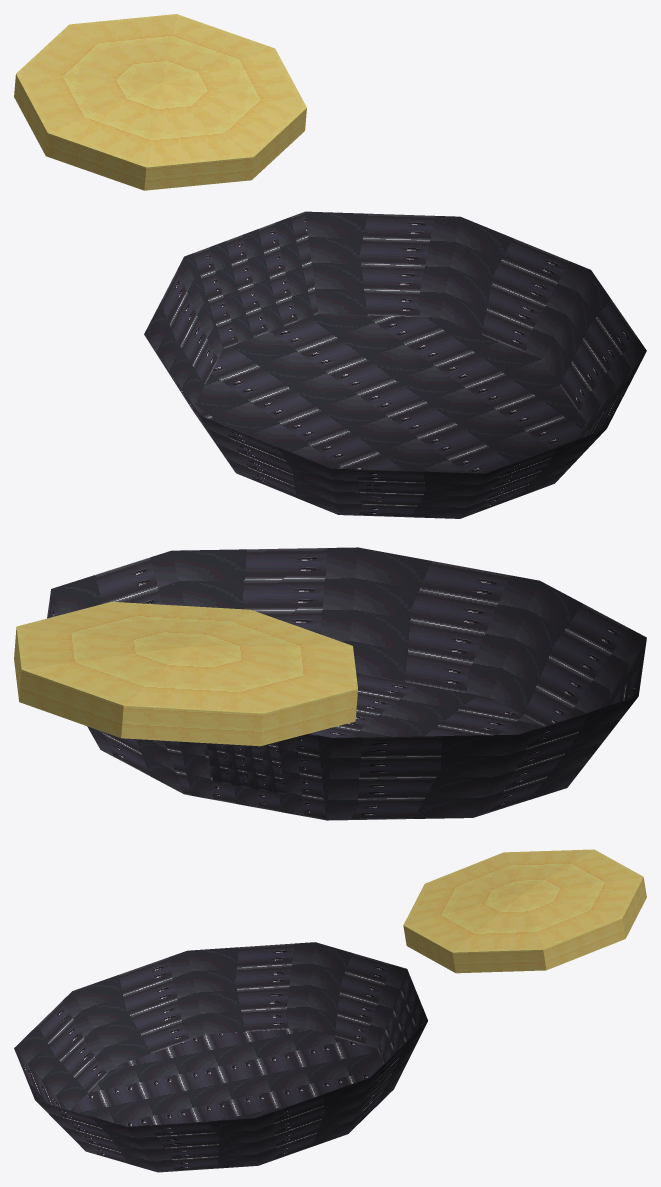
Rendered from 1052item523.gltf.
The picture shows the model from 3 angles, top to bottom: view 1: azimuth 30°, elevation 25°; view 2: azimuth 150°, elevation 25°; view 3: azimuth 270°, elevation 25°; orthographic projection. The views are drawn at different scales.
Parts seen in each view (by area): view 1: 1052item523; view 2: 1052item523; view 3: 1052item523.
Part boxes in pixels (x1,y1,x2,y2): 1052item523: (14, 14, 646, 518); 1052item523: (14, 547, 646, 820); 1052item523: (14, 849, 646, 1172).
Size of what is drawn, in the model's own units: 0.7002 by 0.3965 by 1.06.
2 materials, 2 textured.
